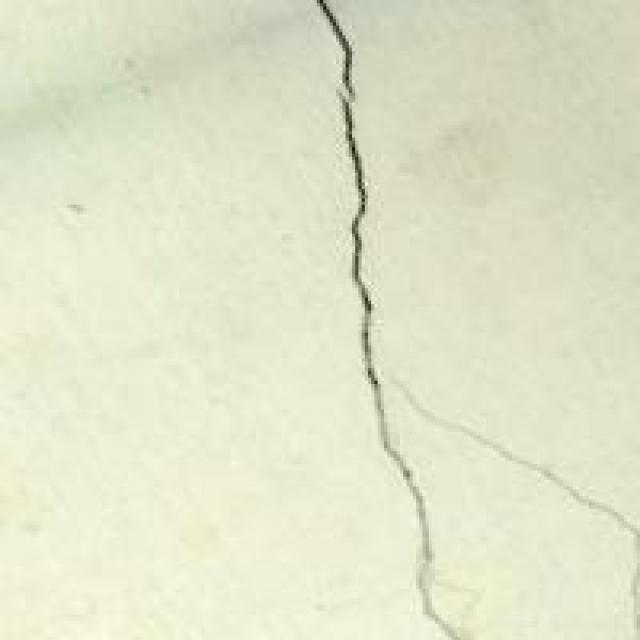crack: (298, 0, 480, 637)
